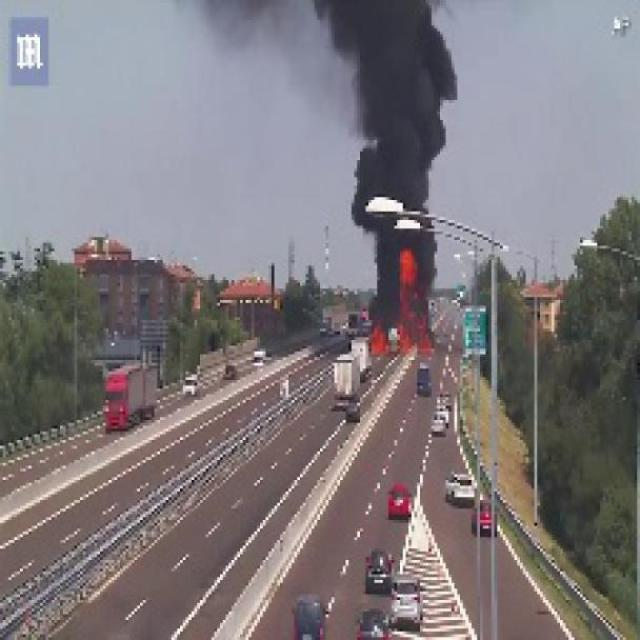Fire: (371, 250, 434, 359)
Smoke: (318, 2, 456, 245), (197, 0, 316, 106)
